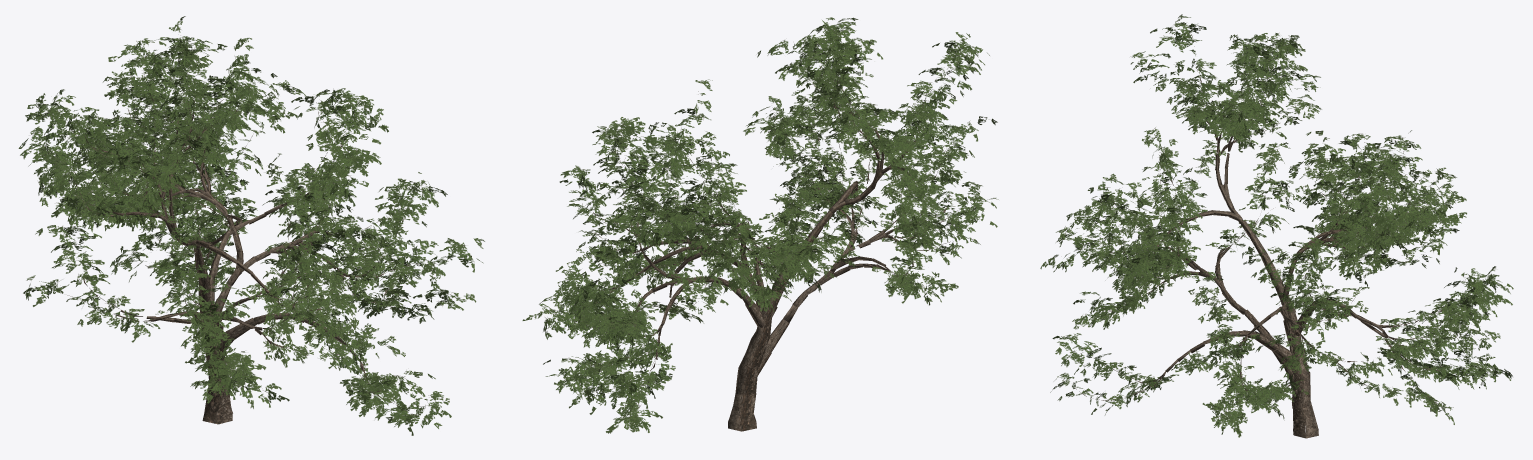
File: liveoak_b.glb
3 views of the same model, side by side, from view 1: azimuth 30°, elevation 25°; view 2: azimuth 150°, elevation 25°; view 3: azimuth 270°, elevation 25° (orthographic). The views are drawn at different scales.
Visible parts, largest first — view 1: foliage.001_w; view 2: foliage.001_w; view 3: foliage.001_w.
Part boxes in pixels (box(x1,y1,x2,y2)): foliage.001_w: box(18, 16, 484, 435); foliage.001_w: box(522, 17, 998, 433); foliage.001_w: box(1040, 14, 1513, 438).
Bounding box in the file's own units: 13.62 × 12.04 × 14.48.
2 materials, 2 textured.
